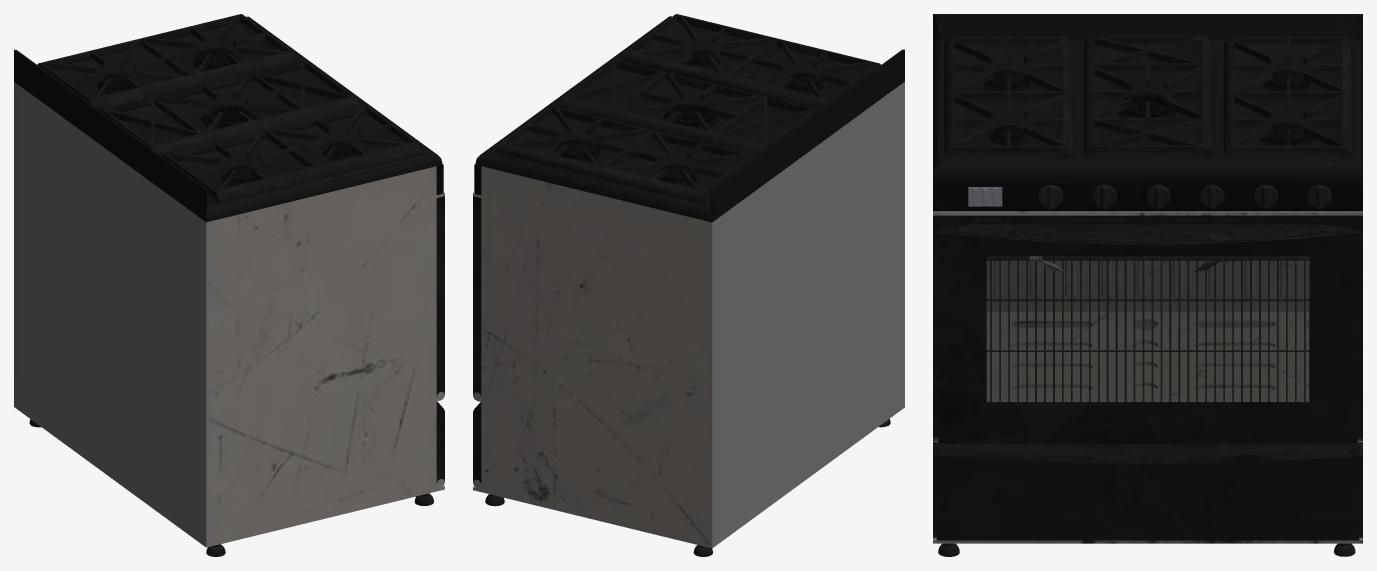
File: gas_oven.glb
3 views of the same model, side by side, from view 1: azimuth 30°, elevation 25°; view 2: azimuth 150°, elevation 25°; view 3: azimuth 270°, elevation 25° (orthographic). The views are drawn at different scales.
Visible parts, largest first — view 1: Object_2; view 2: Object_2; view 3: Object_2.
Part boxes in pixels (<box>): Object_2: <box>14,14,444,556</box>; Object_2: <box>473,14,904,556</box>; Object_2: <box>933,14,1362,556</box>.
Size of the model in its own units: 37.08 by 50.39 by 47.24.
1 material, 1 textured.
